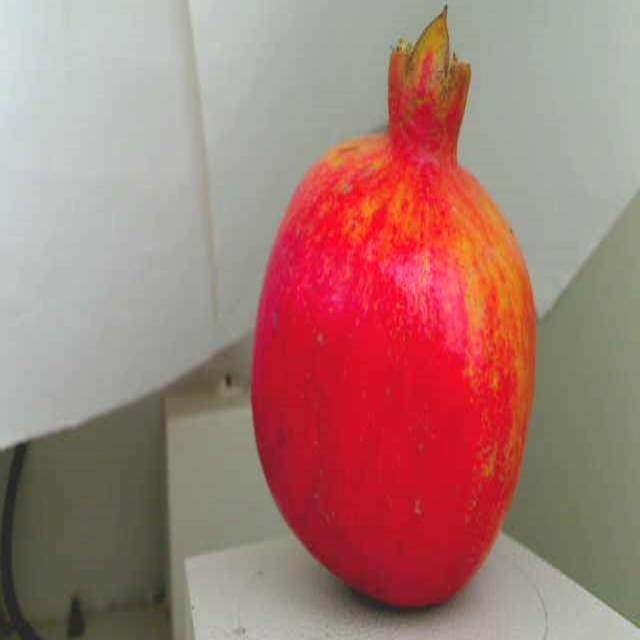pomegranate: (241, 0, 548, 640)
